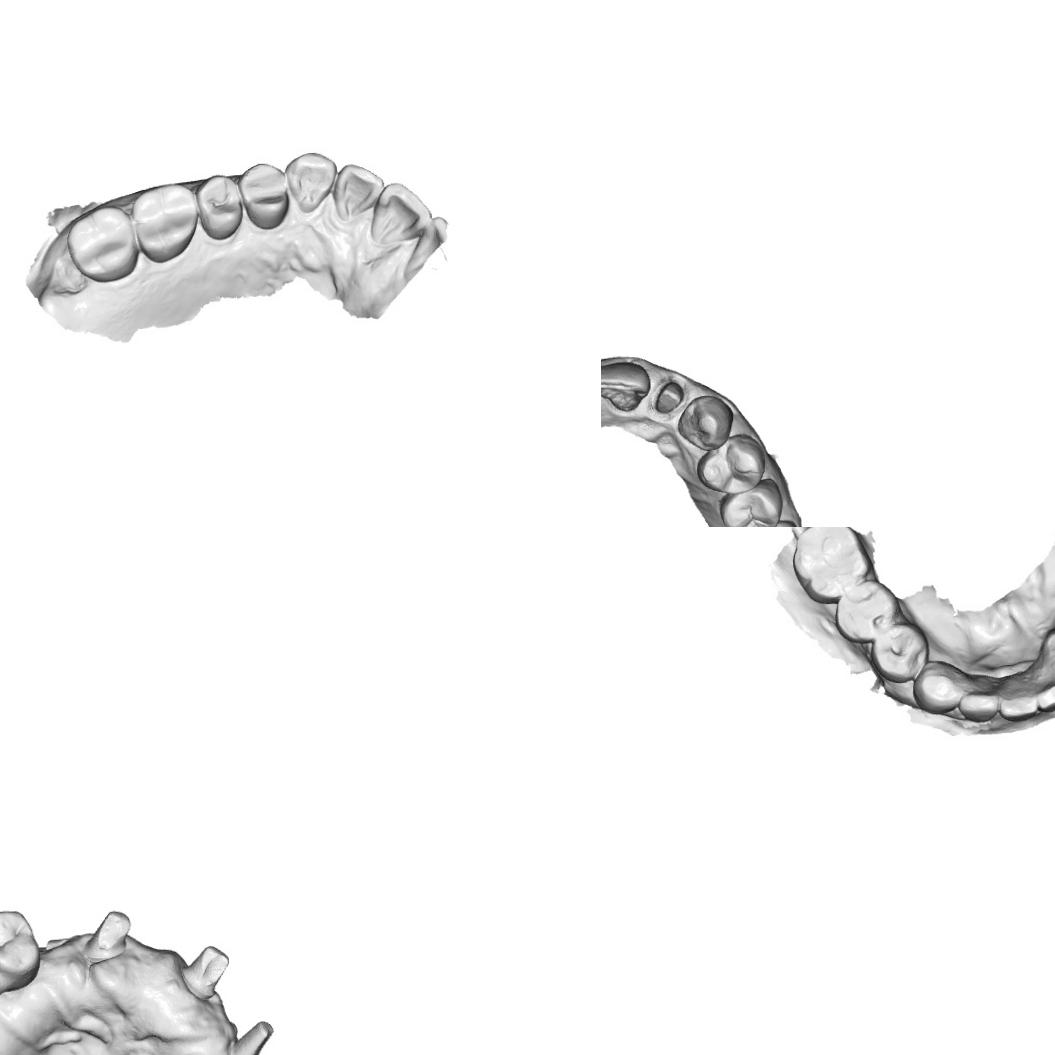abutment: (176, 941, 235, 1002), (86, 905, 134, 959), (221, 1019, 279, 1055)
canine: (676, 394, 736, 452), (286, 150, 337, 215), (912, 659, 964, 714)
crown: (651, 376, 688, 417)
incisor: (370, 181, 432, 245), (332, 162, 384, 221), (601, 360, 651, 413), (998, 677, 1038, 724), (958, 684, 998, 724), (1032, 672, 1055, 716)
molar: (789, 527, 875, 605), (66, 204, 138, 284), (130, 181, 199, 264)
premolar: (696, 433, 766, 496), (835, 578, 897, 646), (870, 621, 932, 683), (238, 161, 288, 231), (196, 172, 246, 239), (0, 904, 42, 983), (719, 477, 784, 527)
